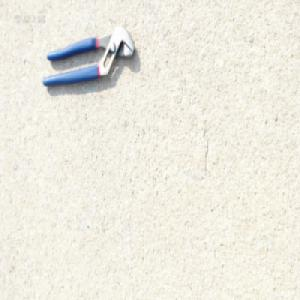Pliers: (41, 25, 135, 89)
